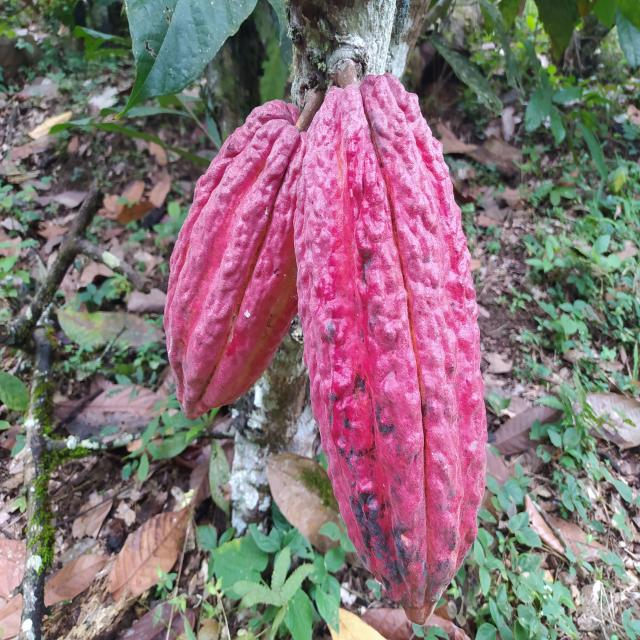Sana: (294, 80, 488, 624), (162, 98, 305, 428)
